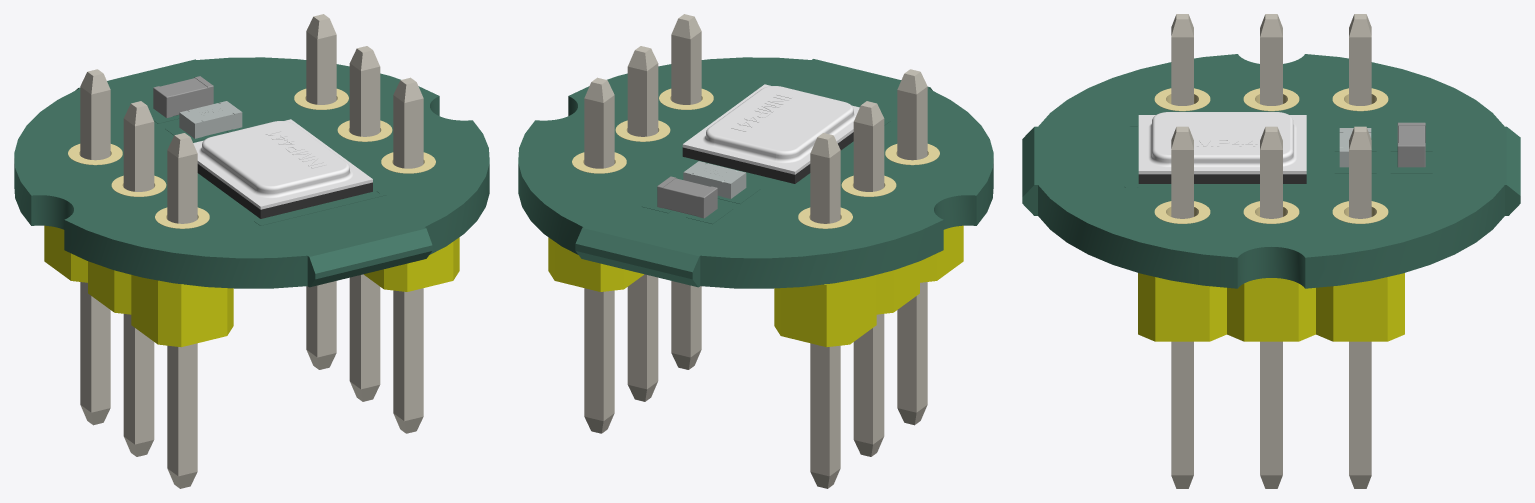
The model's file is inmp441.glb.
The picture shows the model from 3 angles, left to right: view 1: azimuth 30°, elevation 25°; view 2: azimuth 150°, elevation 25°; view 3: azimuth 270°, elevation 25°; orthographic projection. The views are drawn at different scales.
Size of the model in its own units: 0.0138 by 0.0113 by 0.0142.
